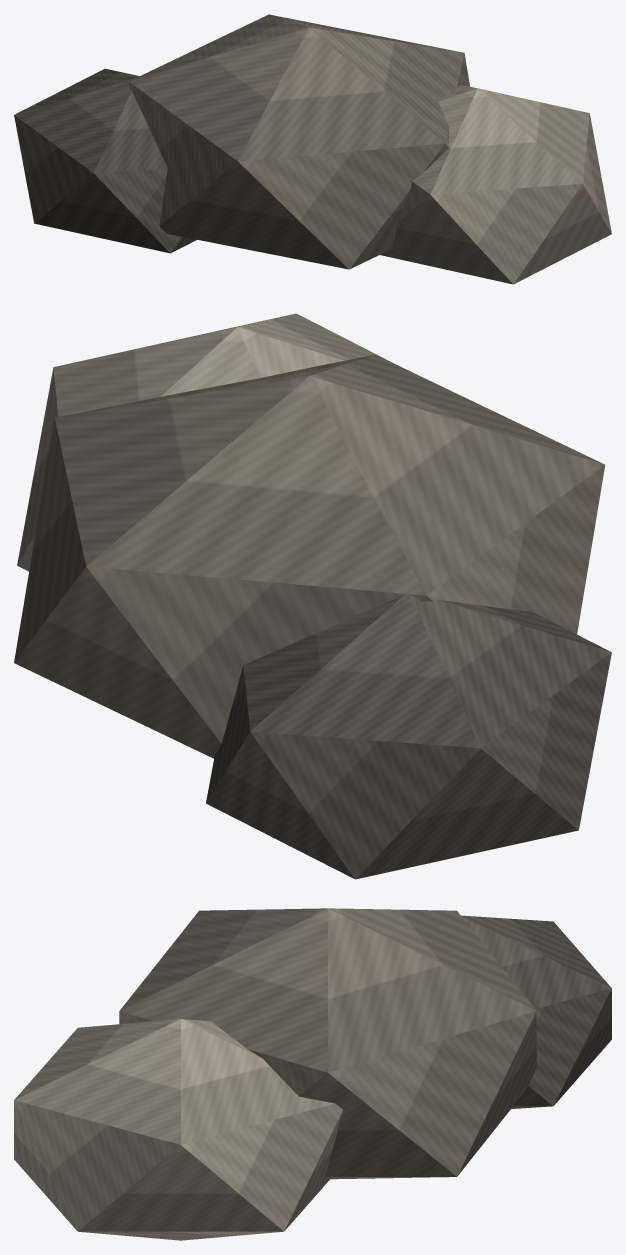
File: rocks.glb
3 renders of one model, top to bottom at view 1: azimuth 30°, elevation 25°; view 2: azimuth 150°, elevation 25°; view 3: azimuth 270°, elevation 25°, orthographic. The views are drawn at different scales.
Visible parts, largest first — view 1: Icosphere; view 2: Icosphere; view 3: Icosphere.
Boxes of the visible parts, x1=… form: Icosphere: x1=14, y1=14, x2=611, y2=284; Icosphere: x1=14, y1=313, x2=611, y2=879; Icosphere: x1=14, y1=908, x2=611, y2=1240.
Size of the model in its own units: 0.54 by 0.27 by 0.54.
Materials: 1 (1 with a texture image).
